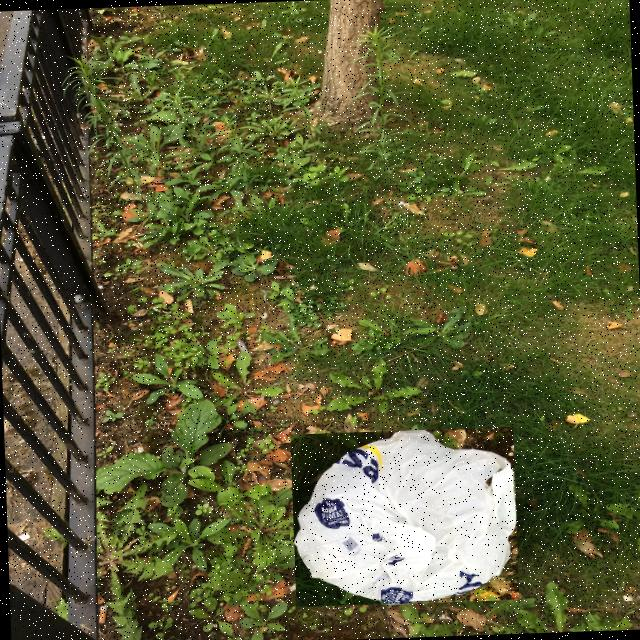Single-use carrier bag: (294, 431, 516, 603)
